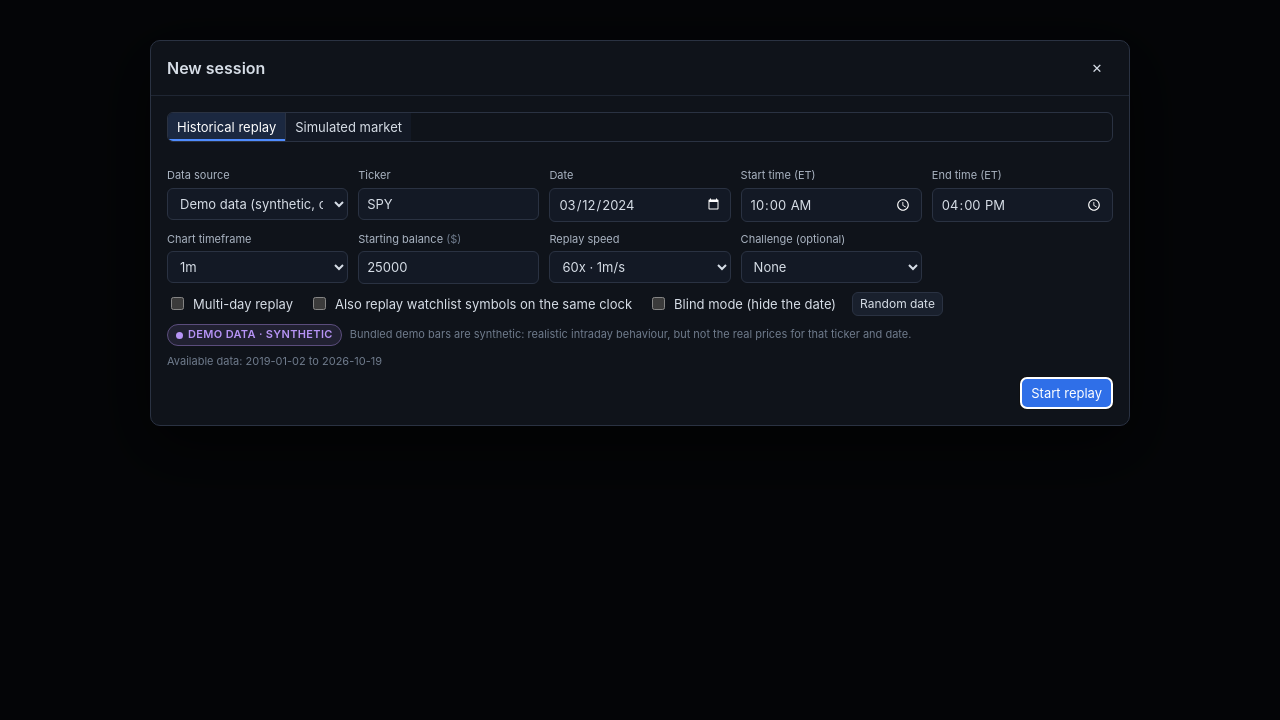
a replay that fails to start › announces the error and keeps the Start button focusable
Later steps or results of the test are not shown.
Step 1. Click the button "Start replay" → (1067, 393), box [1020,377,1113,409]
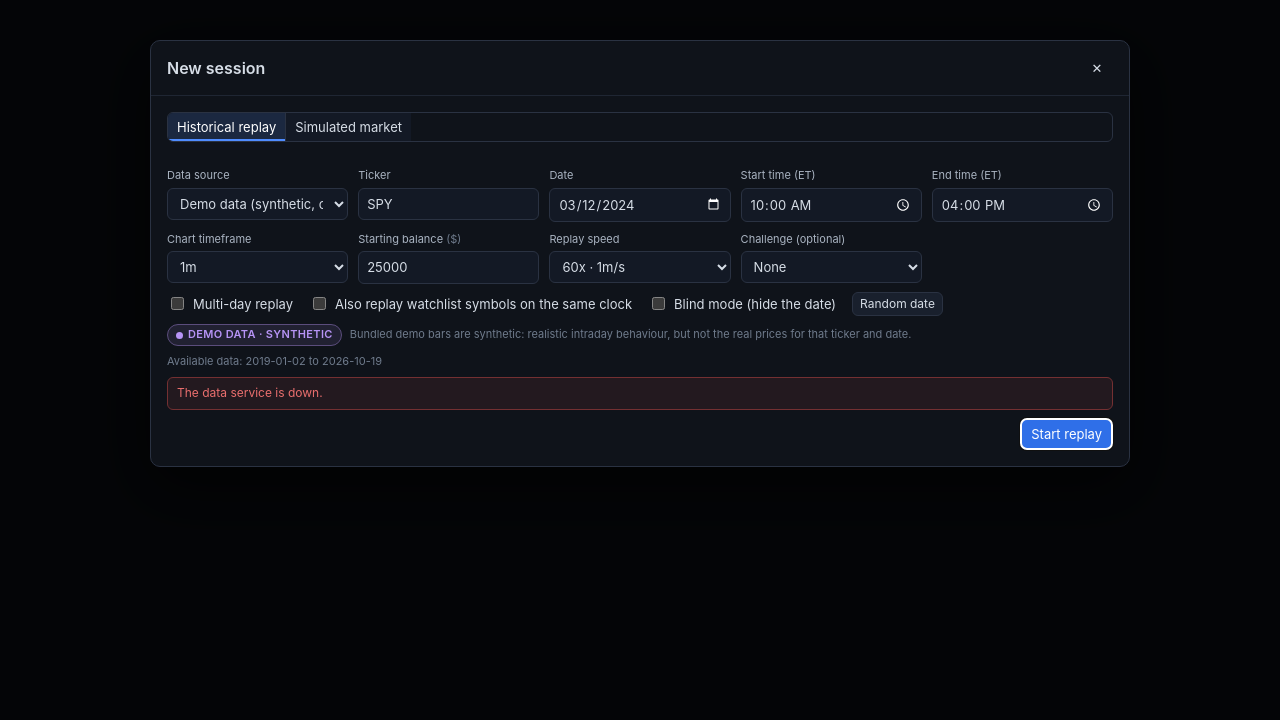
Expected: the button "Start replay" is enabled, [1020,418,1113,450]
Expected: the text "The data service is down." is shown, [167,377,1113,410]
